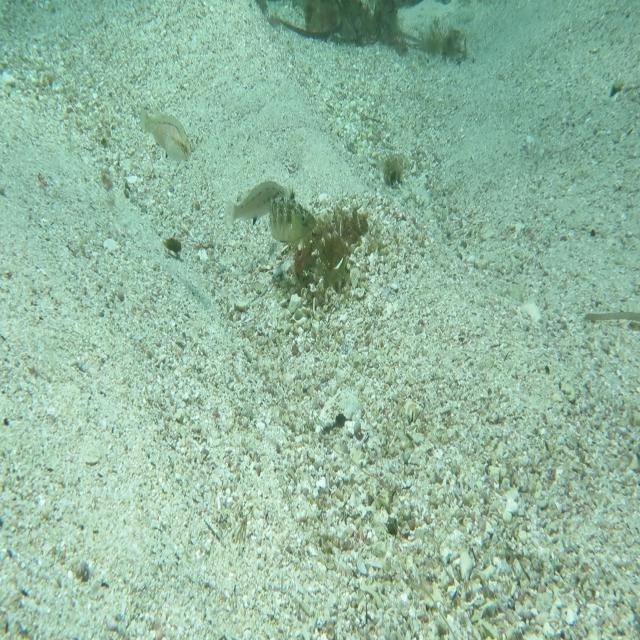BEND_OPP: (266, 179, 320, 249)
female: (226, 172, 295, 227)
nest: (283, 195, 387, 308)
other_fish: (133, 100, 200, 172)
